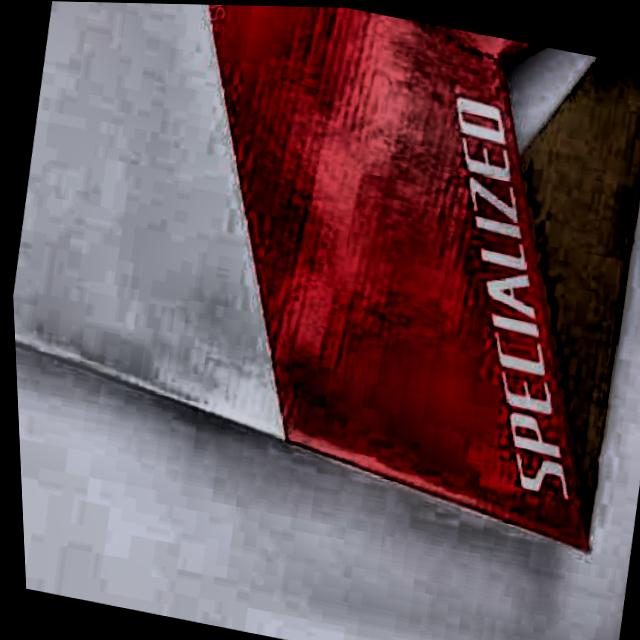Cardbox: (94, 2, 640, 566)
